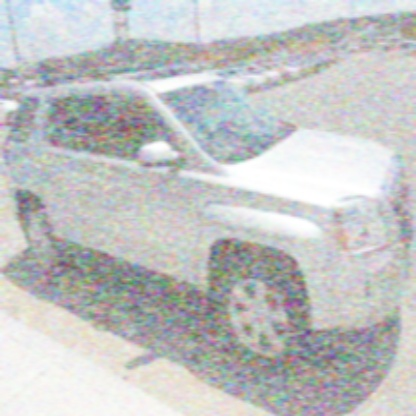Vehicle: (4, 64, 415, 372)
